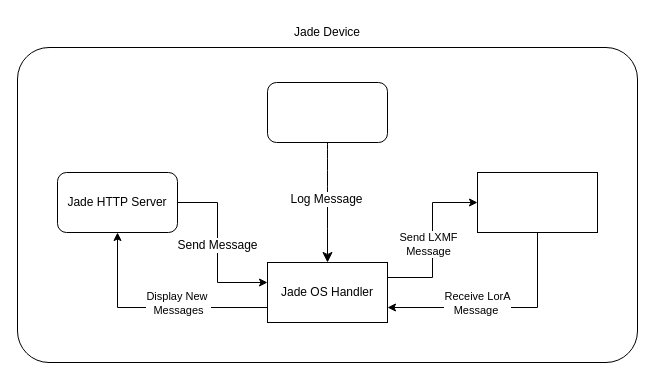
Some shapes in this 655 by 380 pixel diagram are drawn without their labels. Here are the shapes that lost their labels. From the top down, the centre of each, then its label:
At (x=327, y=112): "SQLite".
At (x=537, y=202): "LorA Interface".
